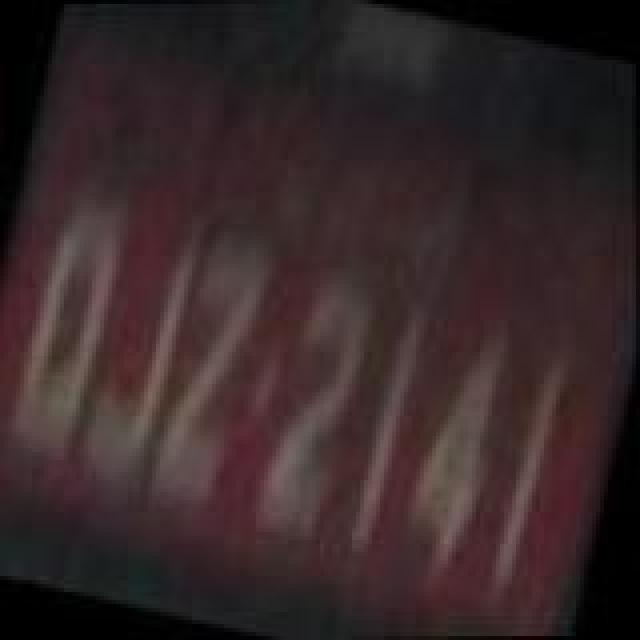1: (336, 296, 432, 564), (480, 346, 576, 606)
2: (246, 272, 386, 560)
4: (388, 322, 524, 586)
J: (70, 218, 206, 494)
Q: (0, 200, 136, 472)
Z: (140, 232, 288, 524)
